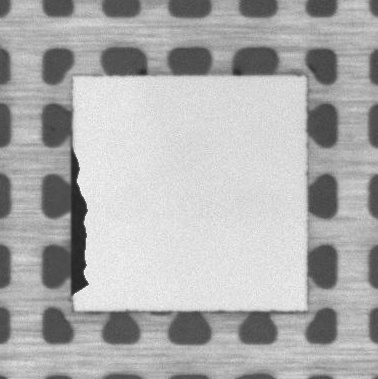DIE_BROKEN: (68, 135, 91, 296)
